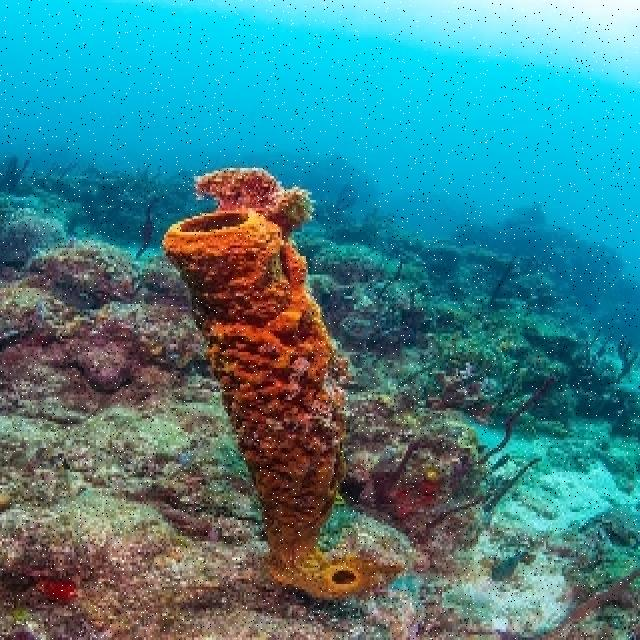reefs: (161, 168, 403, 599)
